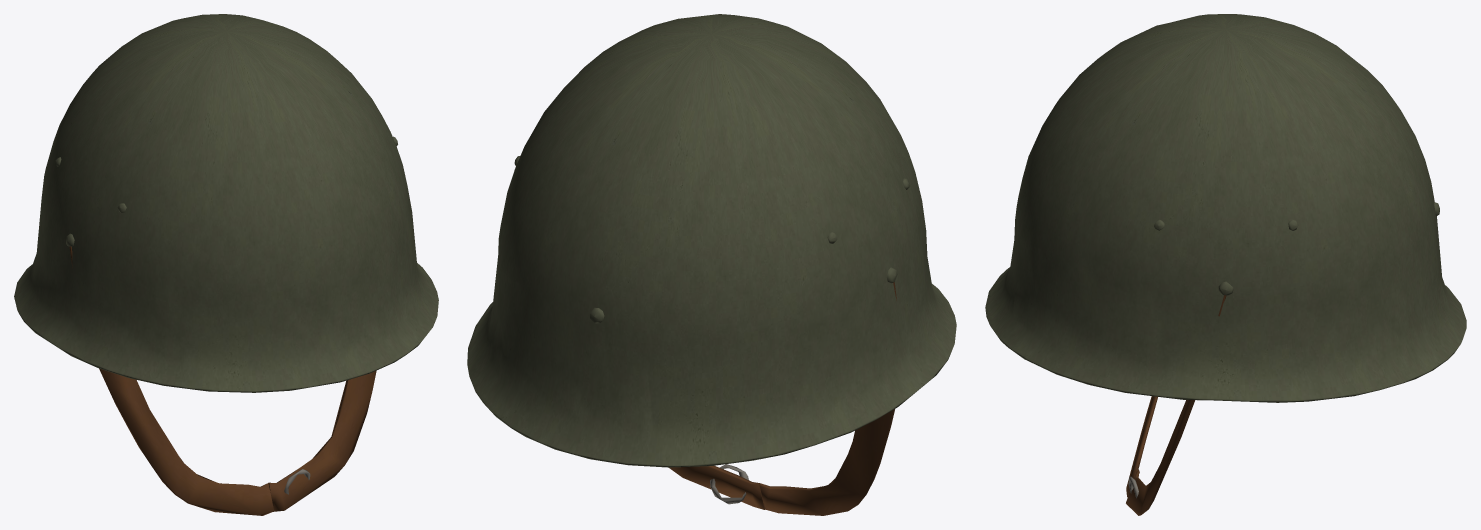
Rendered from helmet_deep.glb.
3 views of the same model, side by side, from view 1: azimuth 30°, elevation 25°; view 2: azimuth 150°, elevation 25°; view 3: azimuth 270°, elevation 25° (orthographic). The views are drawn at different scales.
Parts seen in each view (by area): view 1: helmet_deep_paint, helmet_deep_liner; view 2: helmet_deep_paint, helmet_deep_liner; view 3: helmet_deep_paint, helmet_deep_liner.
Boxes of the visible parts, bbox=[...] form: helmet_deep_paint: bbox=[14, 14, 438, 392]; helmet_deep_liner: bbox=[69, 246, 376, 515]; helmet_deep_paint: bbox=[467, 14, 956, 467]; helmet_deep_liner: bbox=[669, 282, 896, 515]; helmet_deep_paint: bbox=[985, 14, 1466, 402]; helmet_deep_liner: bbox=[1126, 295, 1226, 515].
Bounding box in the file's own units: 0.2342 × 0.2797 × 0.2598.
Materials: 4 (2 with a texture image).
